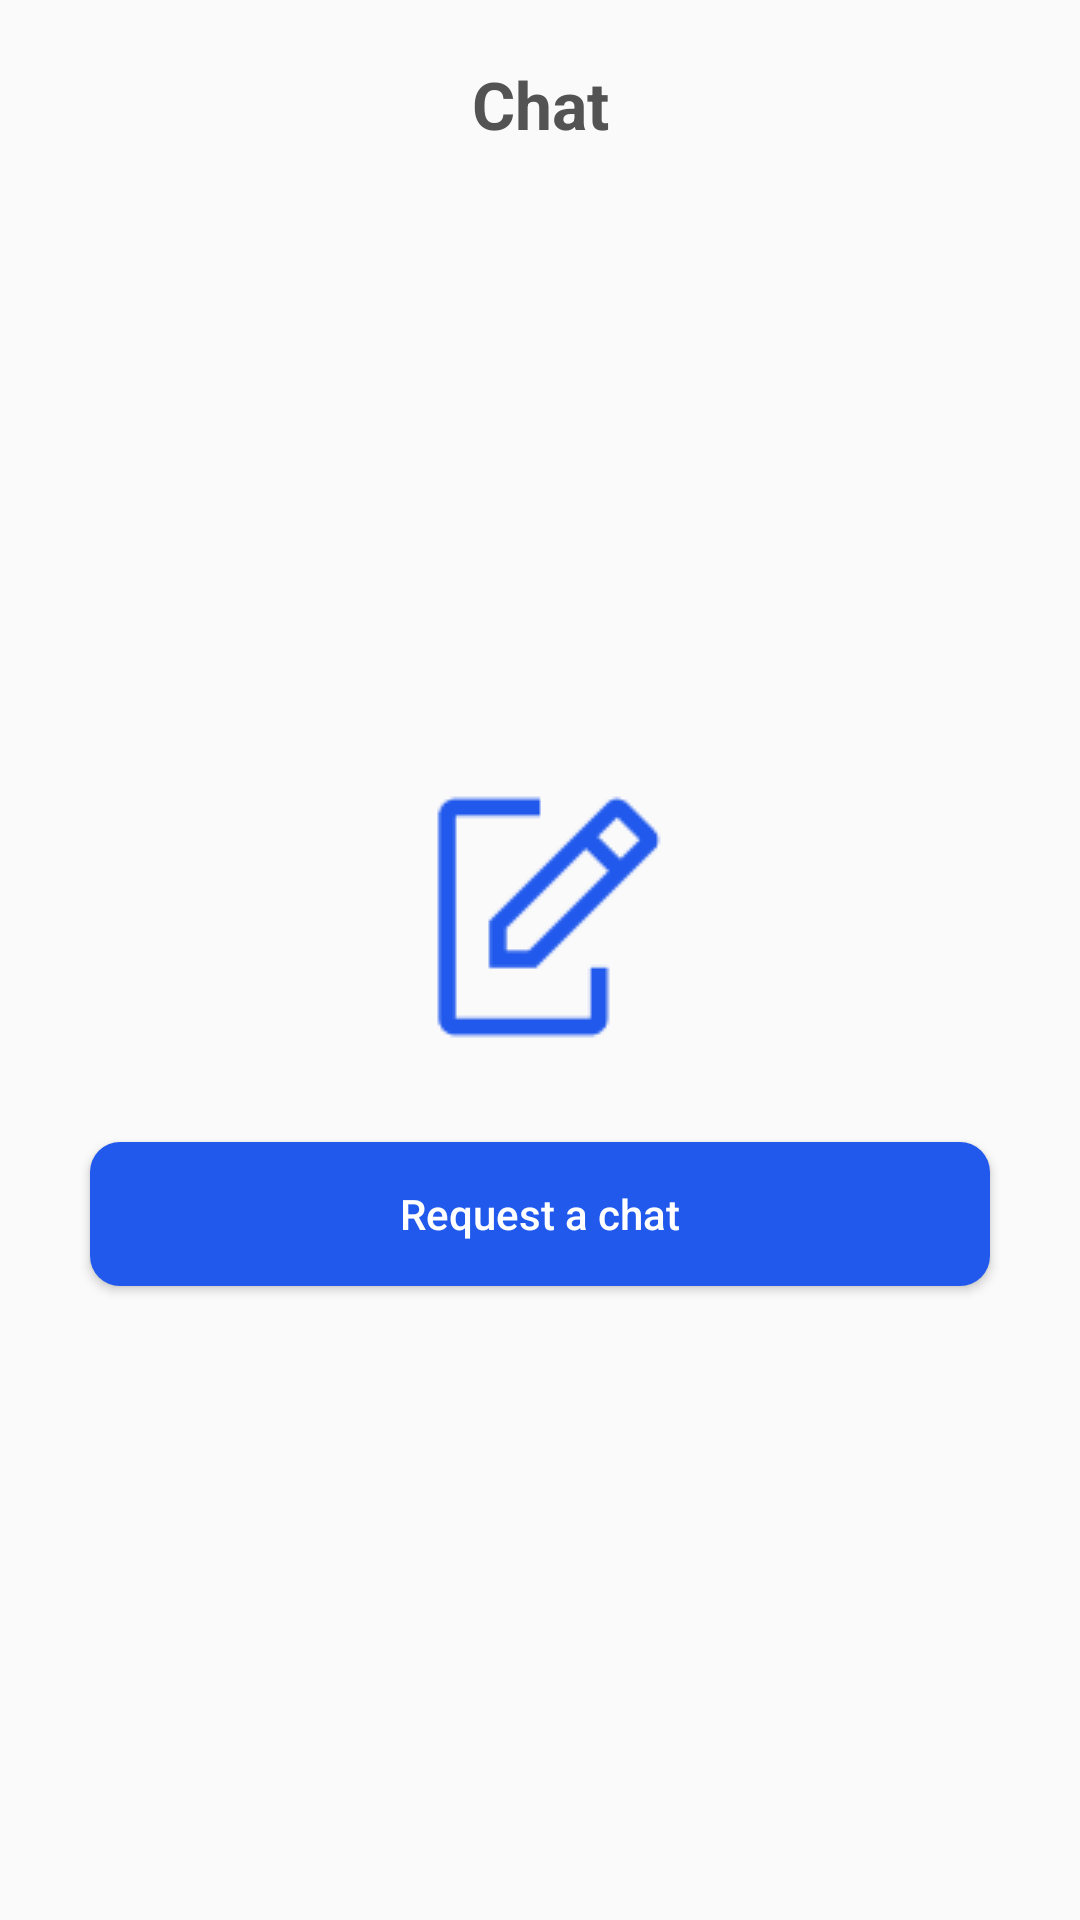

Icons on this 1080px×1920px Android screen, each with its box as (x1, y1, x2, y2):
carbon request quote: (437, 796, 660, 1038)
